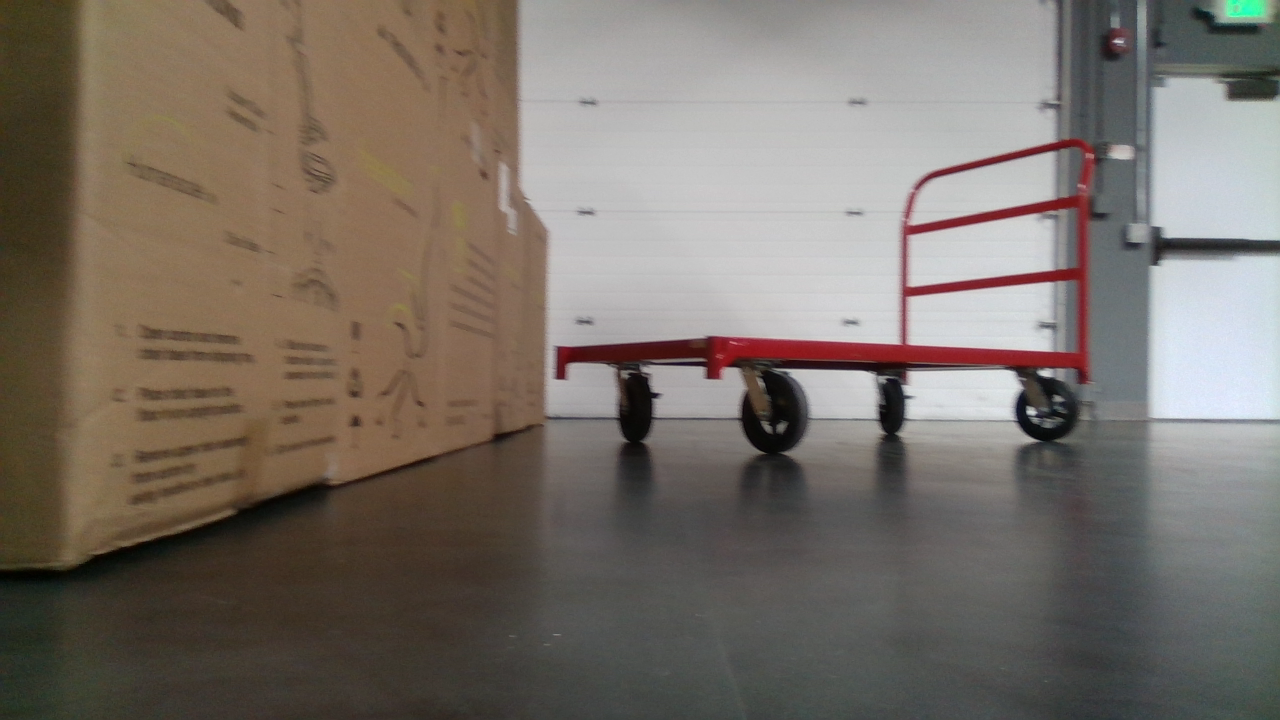Dolly: (552, 136, 1099, 455)
Wheel: (740, 371, 809, 454), (1013, 378, 1077, 442), (618, 371, 654, 443), (876, 379, 907, 434)
